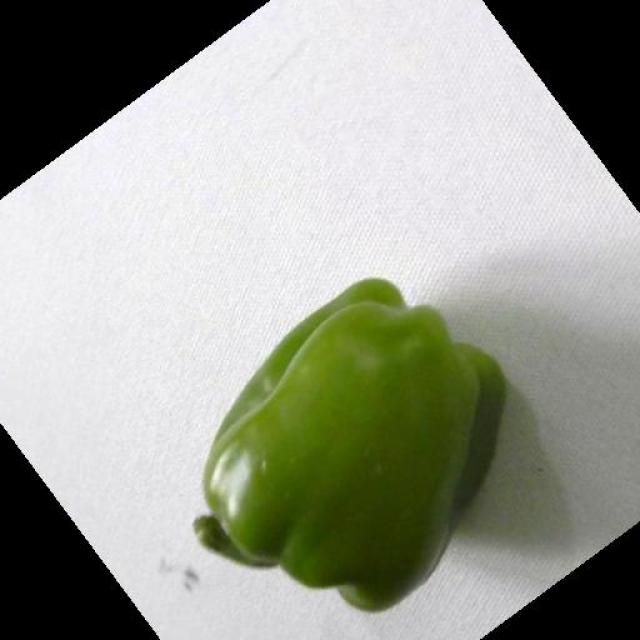Fresh_Capsicum: (176, 317, 522, 585)
